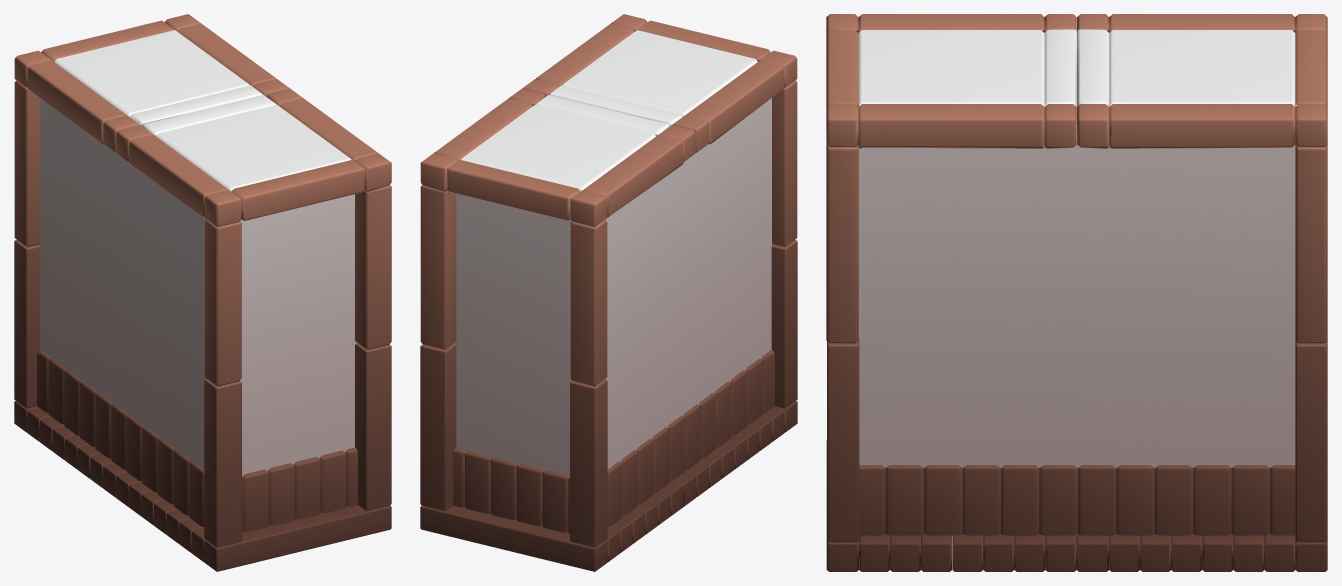
The model's file is SM_Wood_Body_03.fbx.
3 renders of one model, left to right at view 1: azimuth 30°, elevation 25°; view 2: azimuth 150°, elevation 25°; view 3: azimuth 270°, elevation 25°, orthographic. The views are drawn at different scales.
Parts seen in each view (by area): view 1: SM_Wood_Body_03; view 2: SM_Wood_Body_03; view 3: SM_Wood_Body_03.
Part boxes in pixels (bbox=[...]): SM_Wood_Body_03: bbox=[14, 14, 391, 571]; SM_Wood_Body_03: bbox=[420, 14, 797, 571]; SM_Wood_Body_03: bbox=[826, 14, 1327, 571].
Size of the model in its own units: 0.9998 by 2 by 2.
